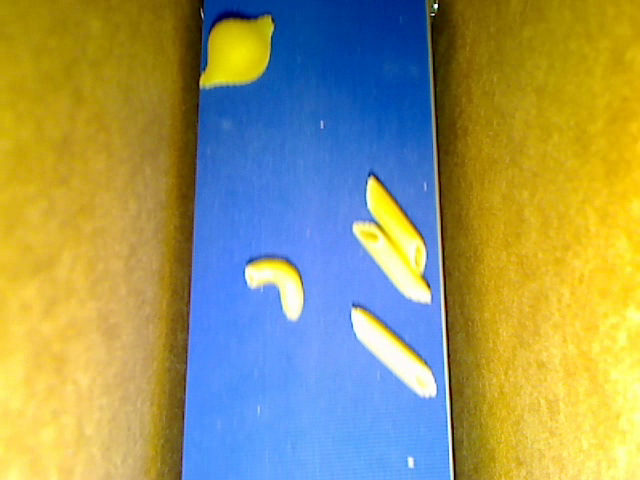elbow: (243, 254, 303, 320)
penne: (351, 306, 436, 400), (351, 219, 432, 303), (365, 173, 427, 274)
shell: (198, 14, 274, 89)
